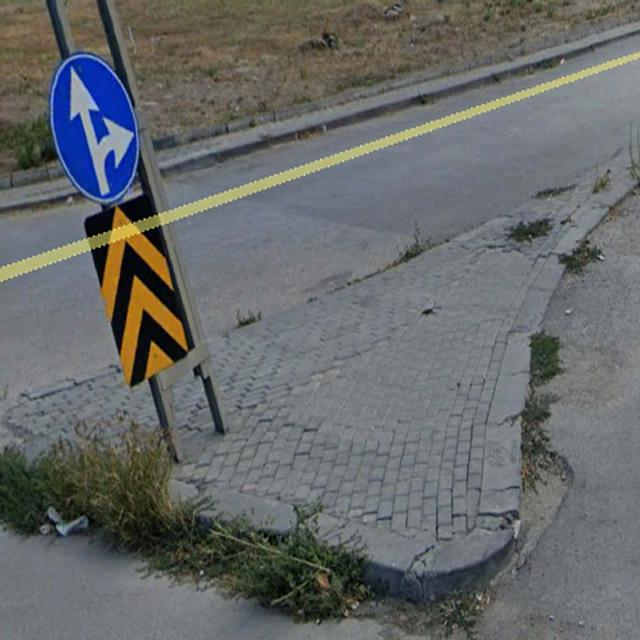ilerisag: (48, 51, 139, 206)
